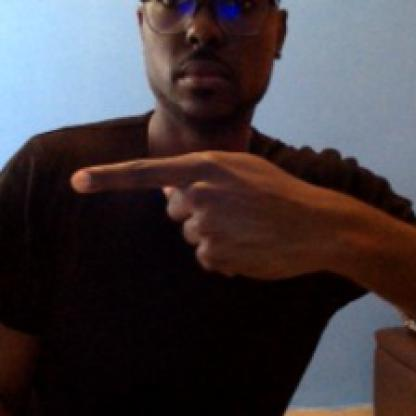TURN RIGHT: (71, 139, 414, 314)
